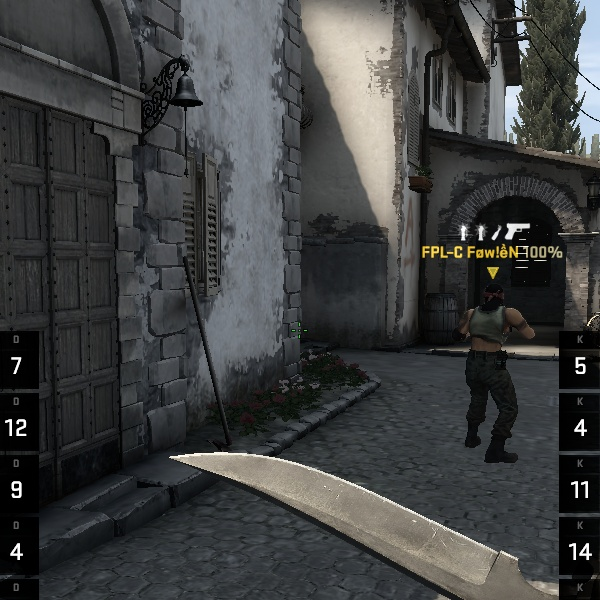t_body: (440, 280, 543, 461)
t_head: (476, 281, 510, 315)
